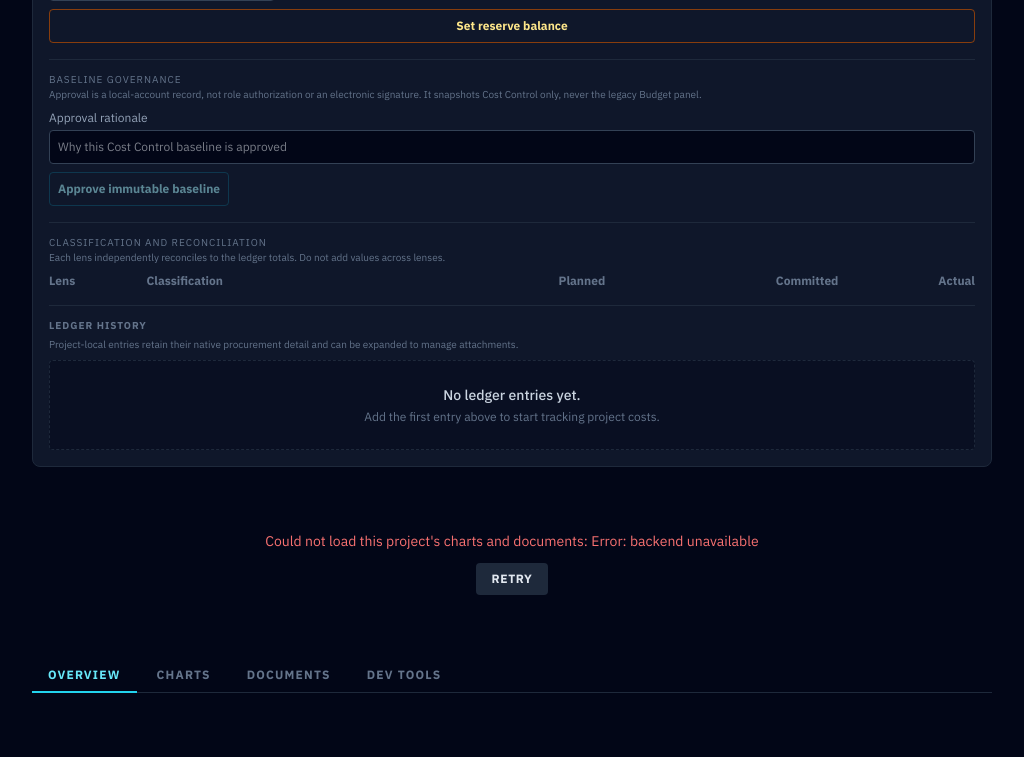
Scenario: Dashboard load › shows a retry-able error message when loading fails
(page scrolled)
Check: the text "Could not load this project" is shown, box 265,532 -> 759,550
Check: the text "Existing WBS" is not shown
Click the button "Retry" at (512,579), box 476,563 -> 548,595
(page scrolled)
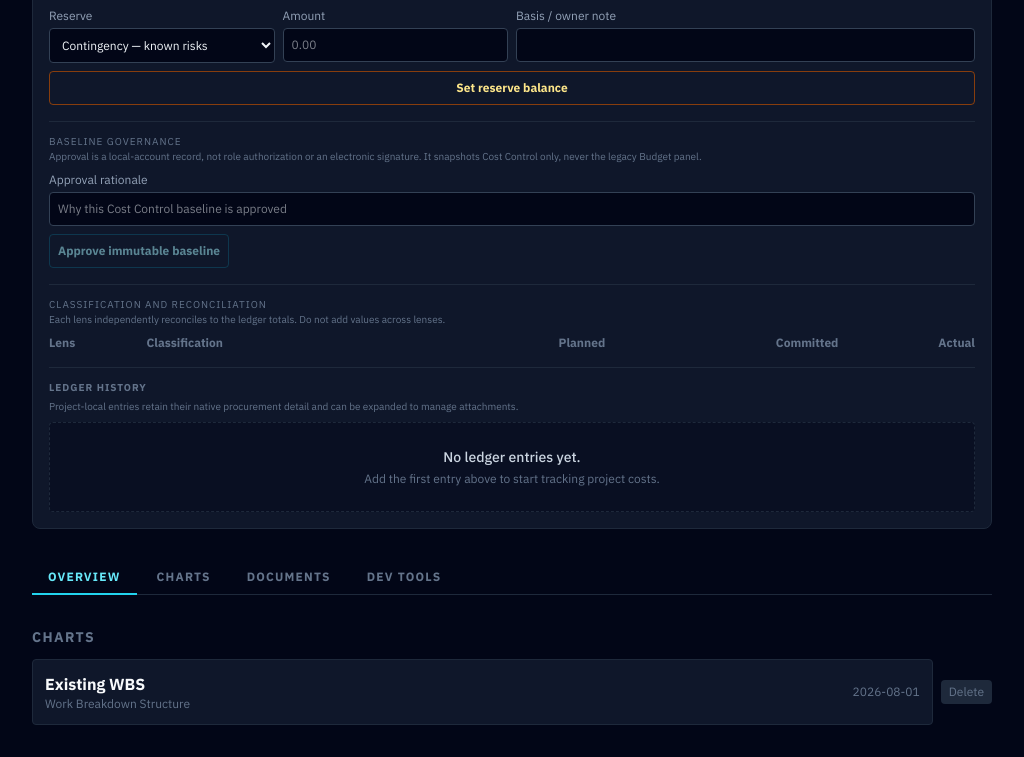
Check: the text "Existing WBS" is shown, box 45,674 -> 145,694
